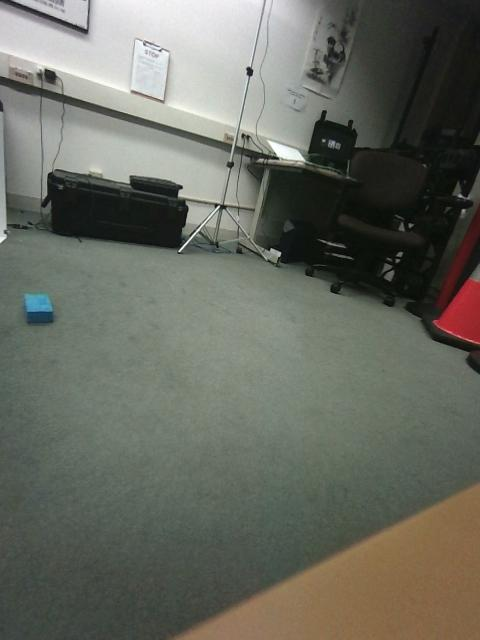block: (225, 395, 309, 470)
